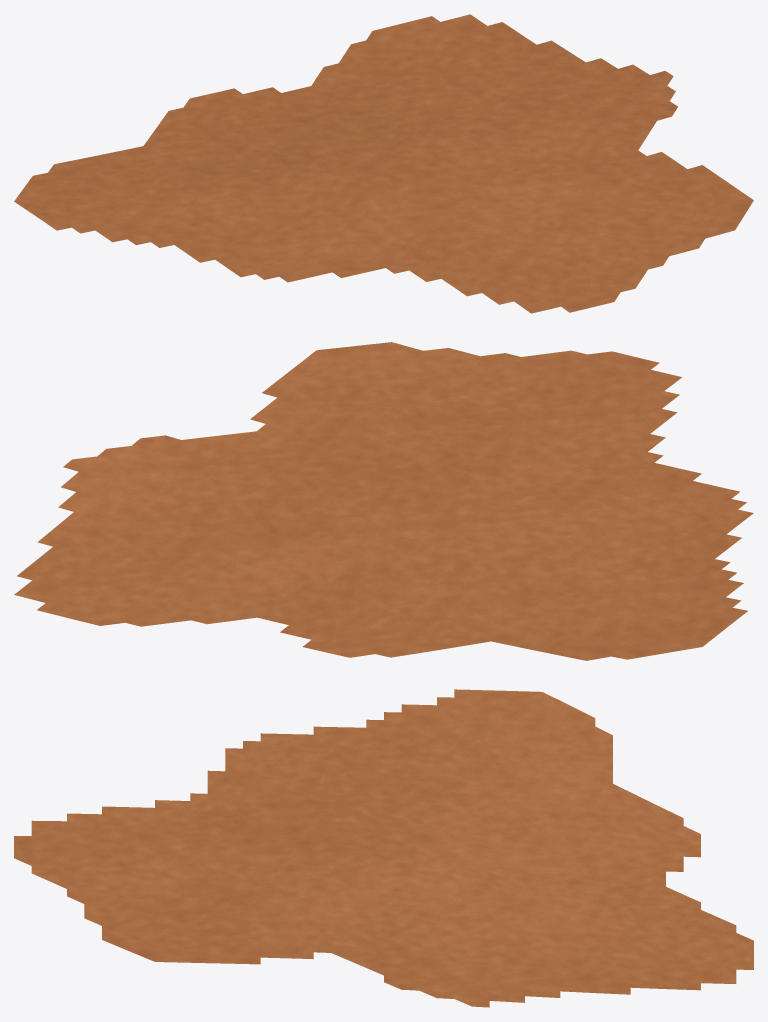
File: sand_orange_0.dae
The picture shows the model from 3 angles, top to bottom: view 1: azimuth 30°, elevation 25°; view 2: azimuth 150°, elevation 25°; view 3: azimuth 270°, elevation 25°; orthographic projection. The views are drawn at different scales.
Parts seen in each view (by area): view 1: sand_orange_0; view 2: sand_orange_0; view 3: sand_orange_0.
Part boxes in pixels (<box>): sand_orange_0: <box>14,14,753,313</box>; sand_orange_0: <box>14,342,753,660</box>; sand_orange_0: <box>14,689,753,1007</box>.
Size of the model in its own units: 10.5 by 10.5 by 0.3655.
Materials: 1 (1 with a texture image).
